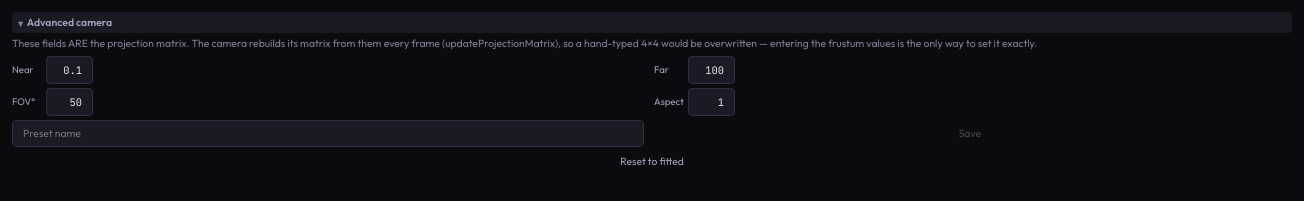
Scenario: CameraAdvanced — an illegal value is rejected, never clamped › a perspective near of 0 is rejected (three requires near > 0)
The width and height of the screenshot is (1304, 201).
Replace the text in the number field labelled "Near" with "0". click: (69, 70)
box: [46,56,93,84]
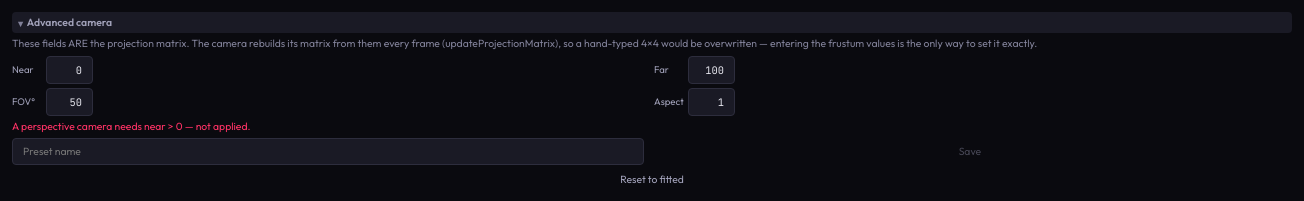
Expected: the text "perspective camera needs near > 0" is shown, [12,120,182,133]
